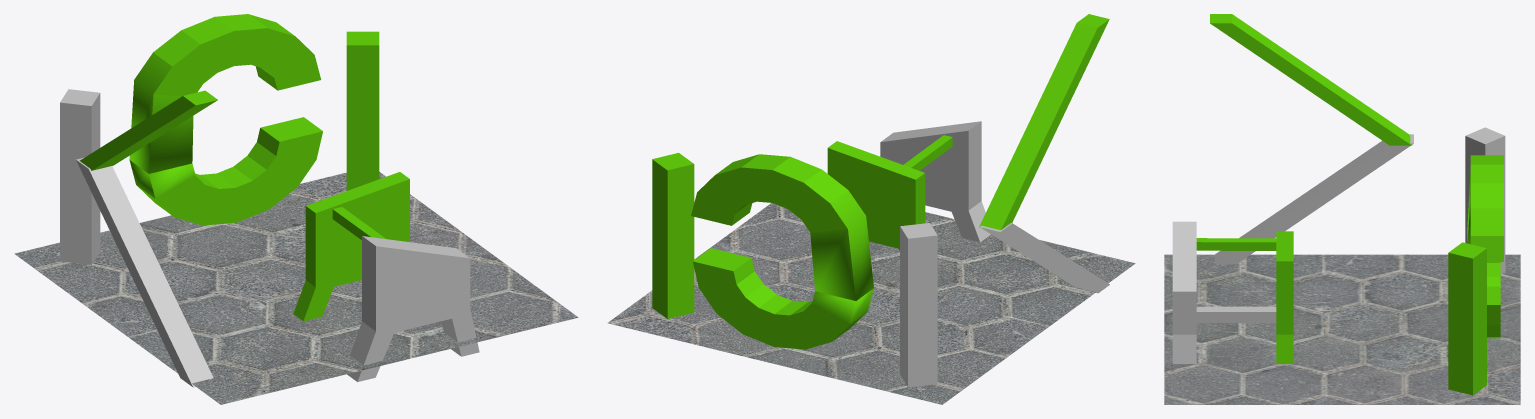
3 views of the same model, side by side, from view 1: azimuth 30°, elevation 25°; view 2: azimuth 150°, elevation 25°; view 3: azimuth 270°, elevation 25° (orthographic). The views are drawn at different scales.
Parts seen in each view (by area): view 1: C, Arch.001, Building, Arch__1_.001, Building__1_, rr, Cube__2_, Cube_1, rr__1_, Cube; view 2: C, Arch.001, Arch__1_.001, Cube_1, rr__1_, Building, Building__1_, Cube__2_, rr, Cube; view 3: C, Cube_1, rr__1_, rr, Building, Arch.001, Building__1_, Cube__2_, Cube__1_, Arch__1_.001, Cube.
Boxes of the visible parts, bbox=[...] form: C: bbox=[14, 172, 578, 404]; Arch.001: bbox=[129, 14, 321, 173]; Building: bbox=[347, 236, 479, 381]; Arch__1_.001: bbox=[129, 117, 322, 225]; Building__1_: bbox=[293, 172, 409, 321]; rr: bbox=[76, 157, 213, 387]; Cube__2_: bbox=[60, 89, 100, 264]; Cube_1: bbox=[346, 31, 379, 190]; rr__1_: bbox=[80, 90, 217, 170]; Cube: bbox=[332, 207, 385, 239]; C: bbox=[607, 203, 1135, 404]; Arch.001: bbox=[691, 154, 873, 300]; Arch__1_.001: bbox=[692, 248, 873, 349]; Cube_1: bbox=[652, 152, 694, 318]; rr__1_: bbox=[979, 14, 1109, 232]; Building: bbox=[880, 121, 990, 242]; Building__1_: bbox=[827, 141, 925, 250]; Cube__2_: bbox=[900, 223, 937, 387]; rr: bbox=[980, 223, 1109, 293]; Cube: bbox=[903, 135, 952, 170]; C: bbox=[1164, 254, 1520, 404]; Cube_1: bbox=[1448, 242, 1486, 395]; rr__1_: bbox=[1210, 14, 1412, 145]; rr: bbox=[1215, 134, 1413, 263]; Building: bbox=[1172, 221, 1196, 363]; Arch.001: bbox=[1467, 155, 1503, 261]; Building__1_: bbox=[1276, 231, 1293, 363]; Cube__2_: bbox=[1465, 127, 1505, 274]; Cube__1_: bbox=[1196, 306, 1276, 323]; Arch__1_.001: bbox=[1487, 262, 1500, 338]; Cube: bbox=[1196, 238, 1276, 250].
Bounding box in the file's own units: 10005 × 7876 × 10000.
